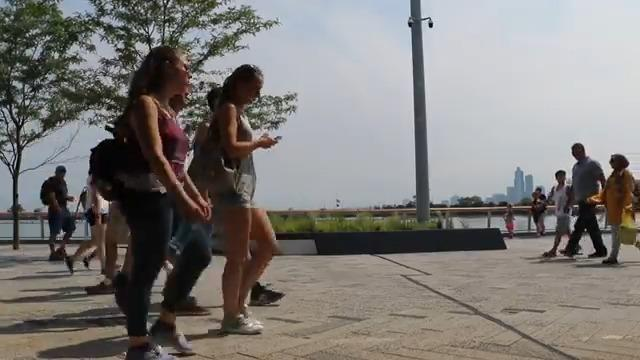no-helmet: (128, 44, 193, 95), (221, 63, 264, 104), (609, 153, 629, 171)
